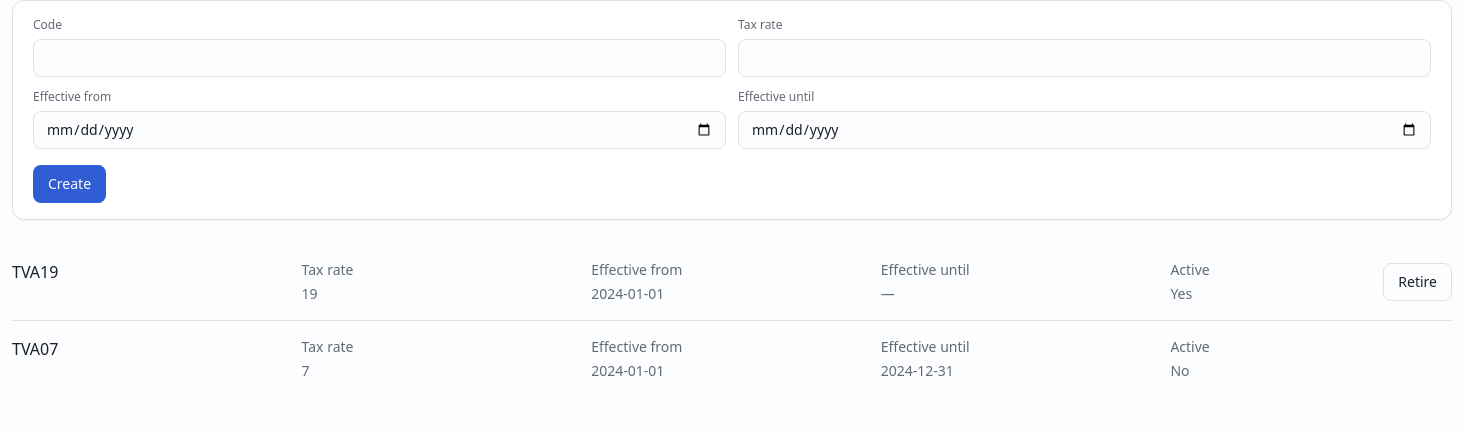
Test: TaxRatesList › shows the refusal instead of clearing the form
The width and height of the screenshot is (1464, 429).
Check: the text "TVA19" is shown, box [12, 261, 58, 283]
Type "TVA19" into the field labelled "Code" at (380, 58), box [33, 39, 726, 77]
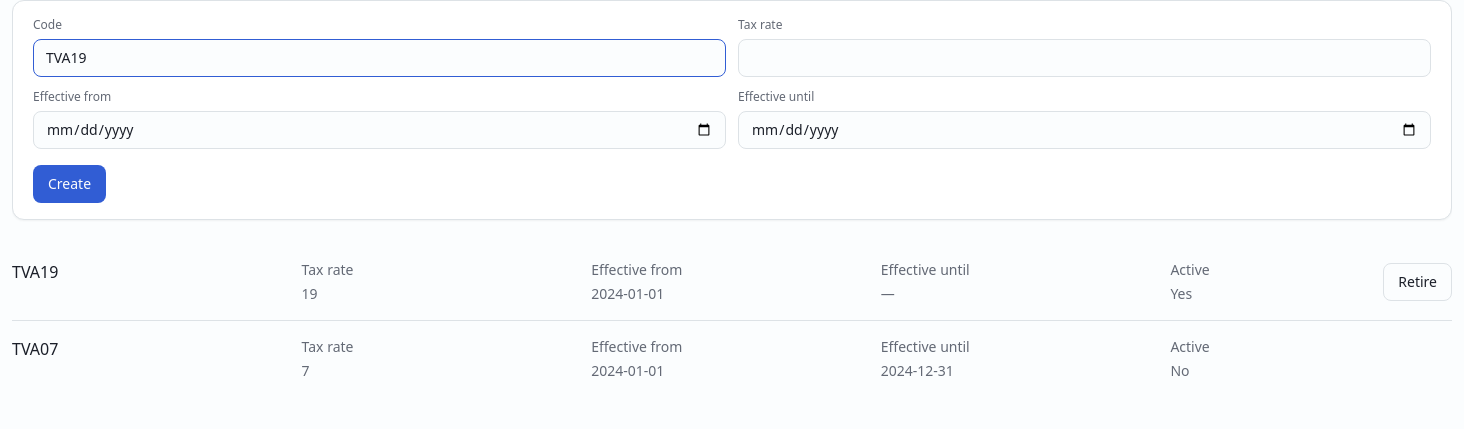
Type "19" into the field labelled "Tax rate" at (1084, 58), box [738, 39, 1431, 77]
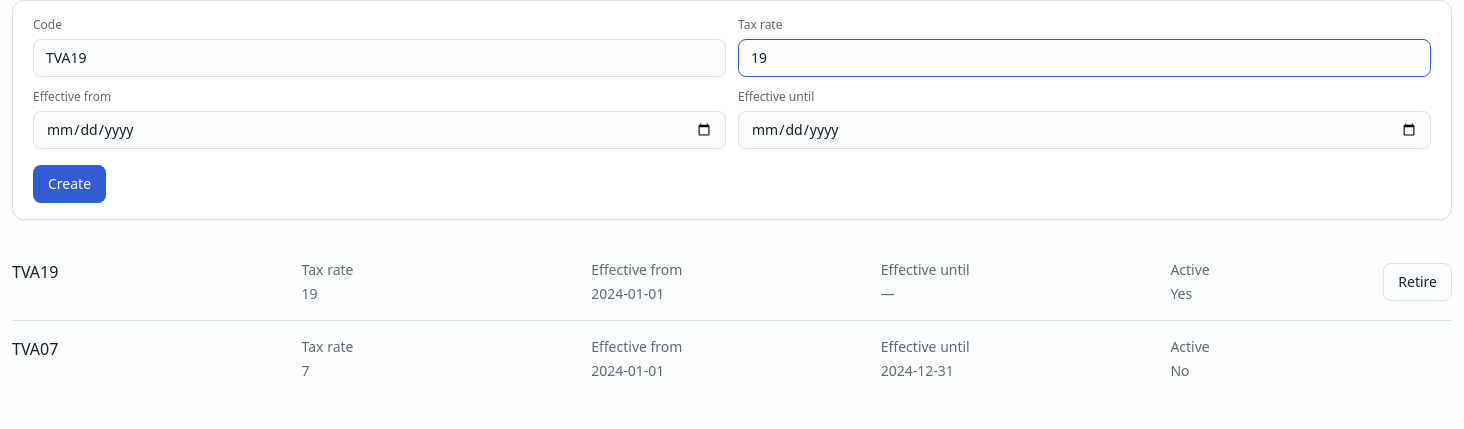
Type "2024-01-01" into the date field labelled "Effective from" at (380, 130), box [33, 111, 726, 149]
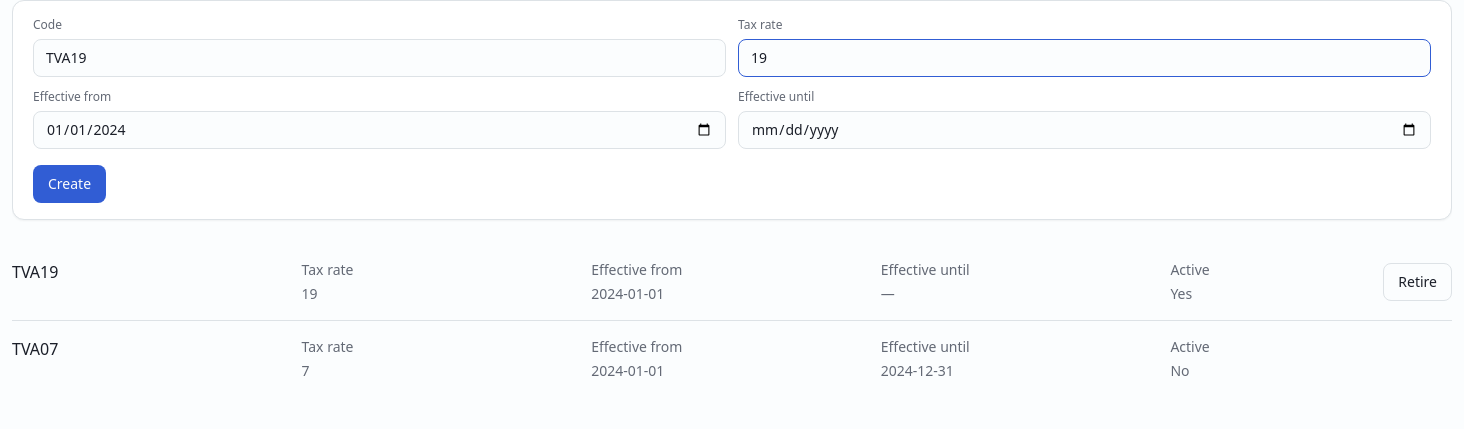
Click the button "Create" at (70, 184), box [33, 165, 106, 203]
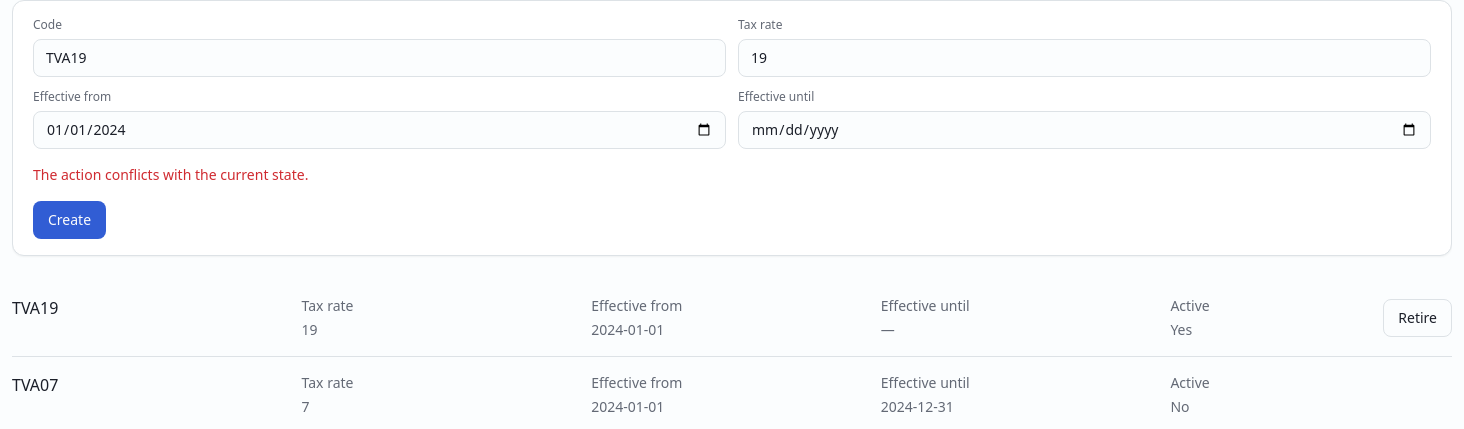
Check: the message reads "The action conflicts with the current state.", box [33, 165, 308, 184]
